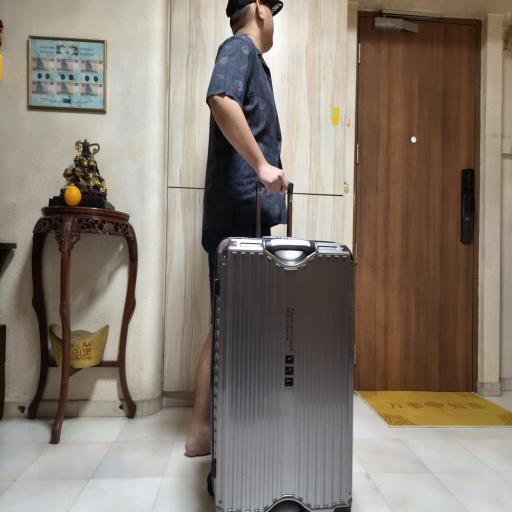person_right: (180, 4, 358, 505)
